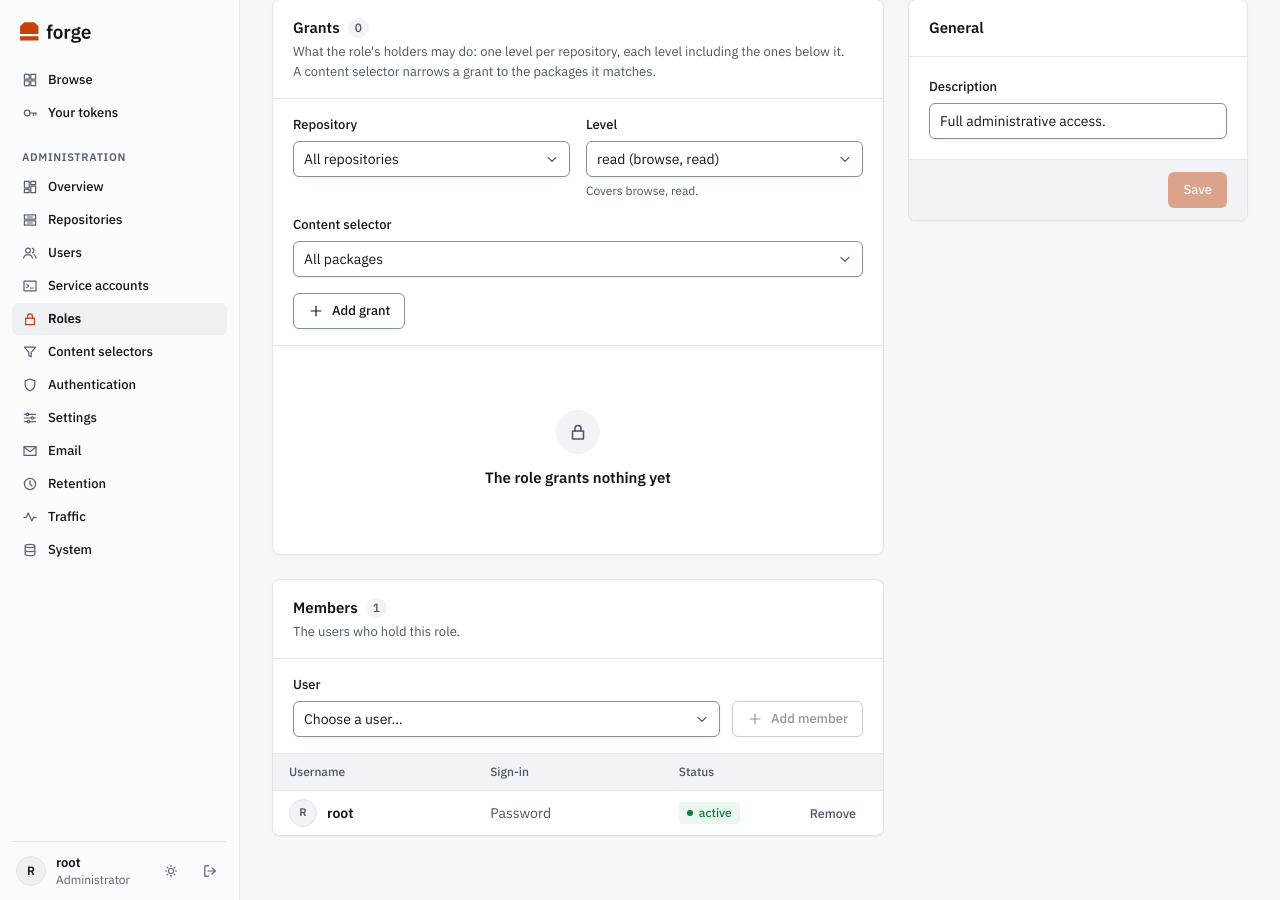
it: admin roles › shows why the last administrator keeps the admin role
(page scrolled)
Click the button with aria-label "Remove root". click: (833,812)
box: [799,798,867,826]
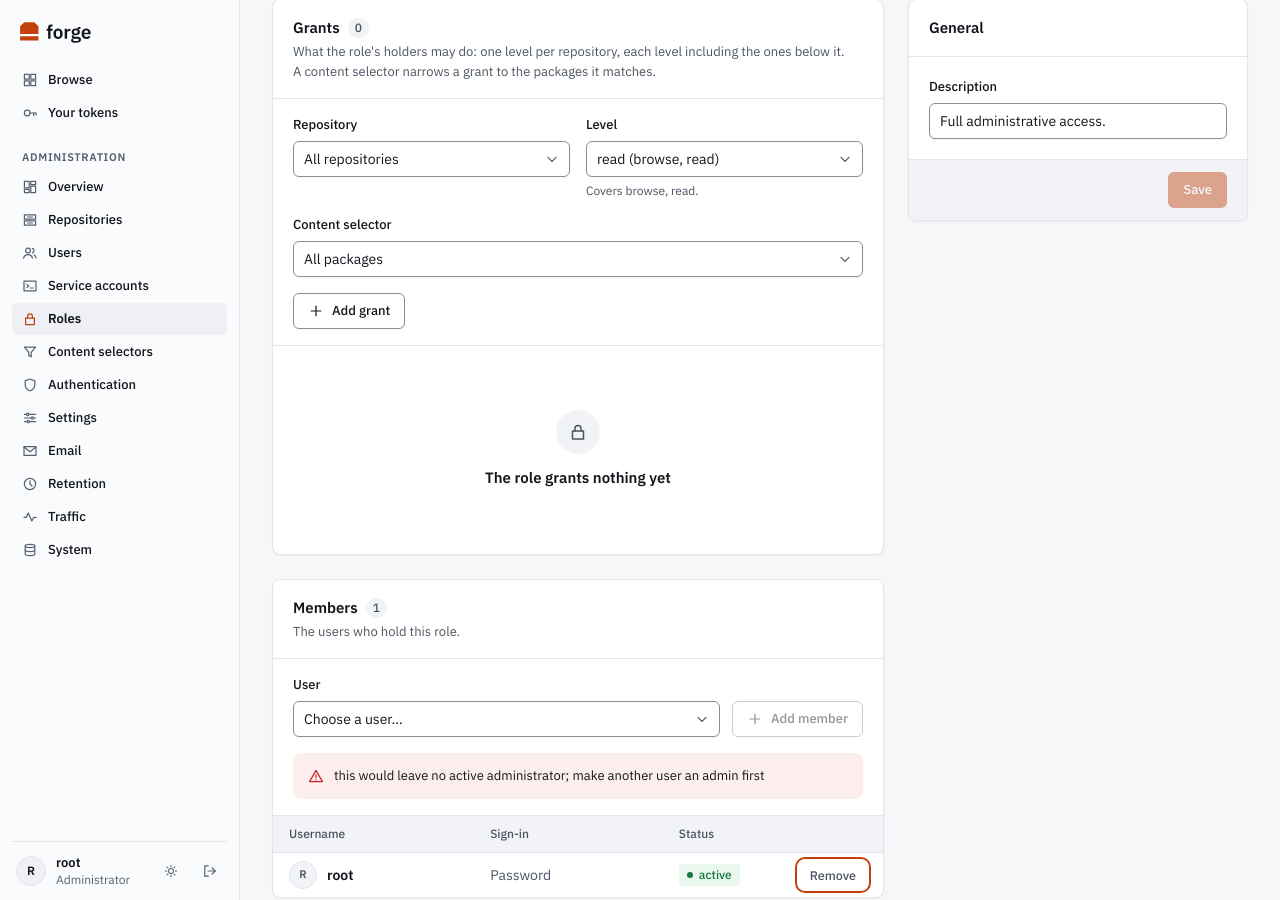
Expected: the link "root" is shown, [327,864,353,884]
Expected: the message shows "this would leave no active administrator", [334,767,765,784]
